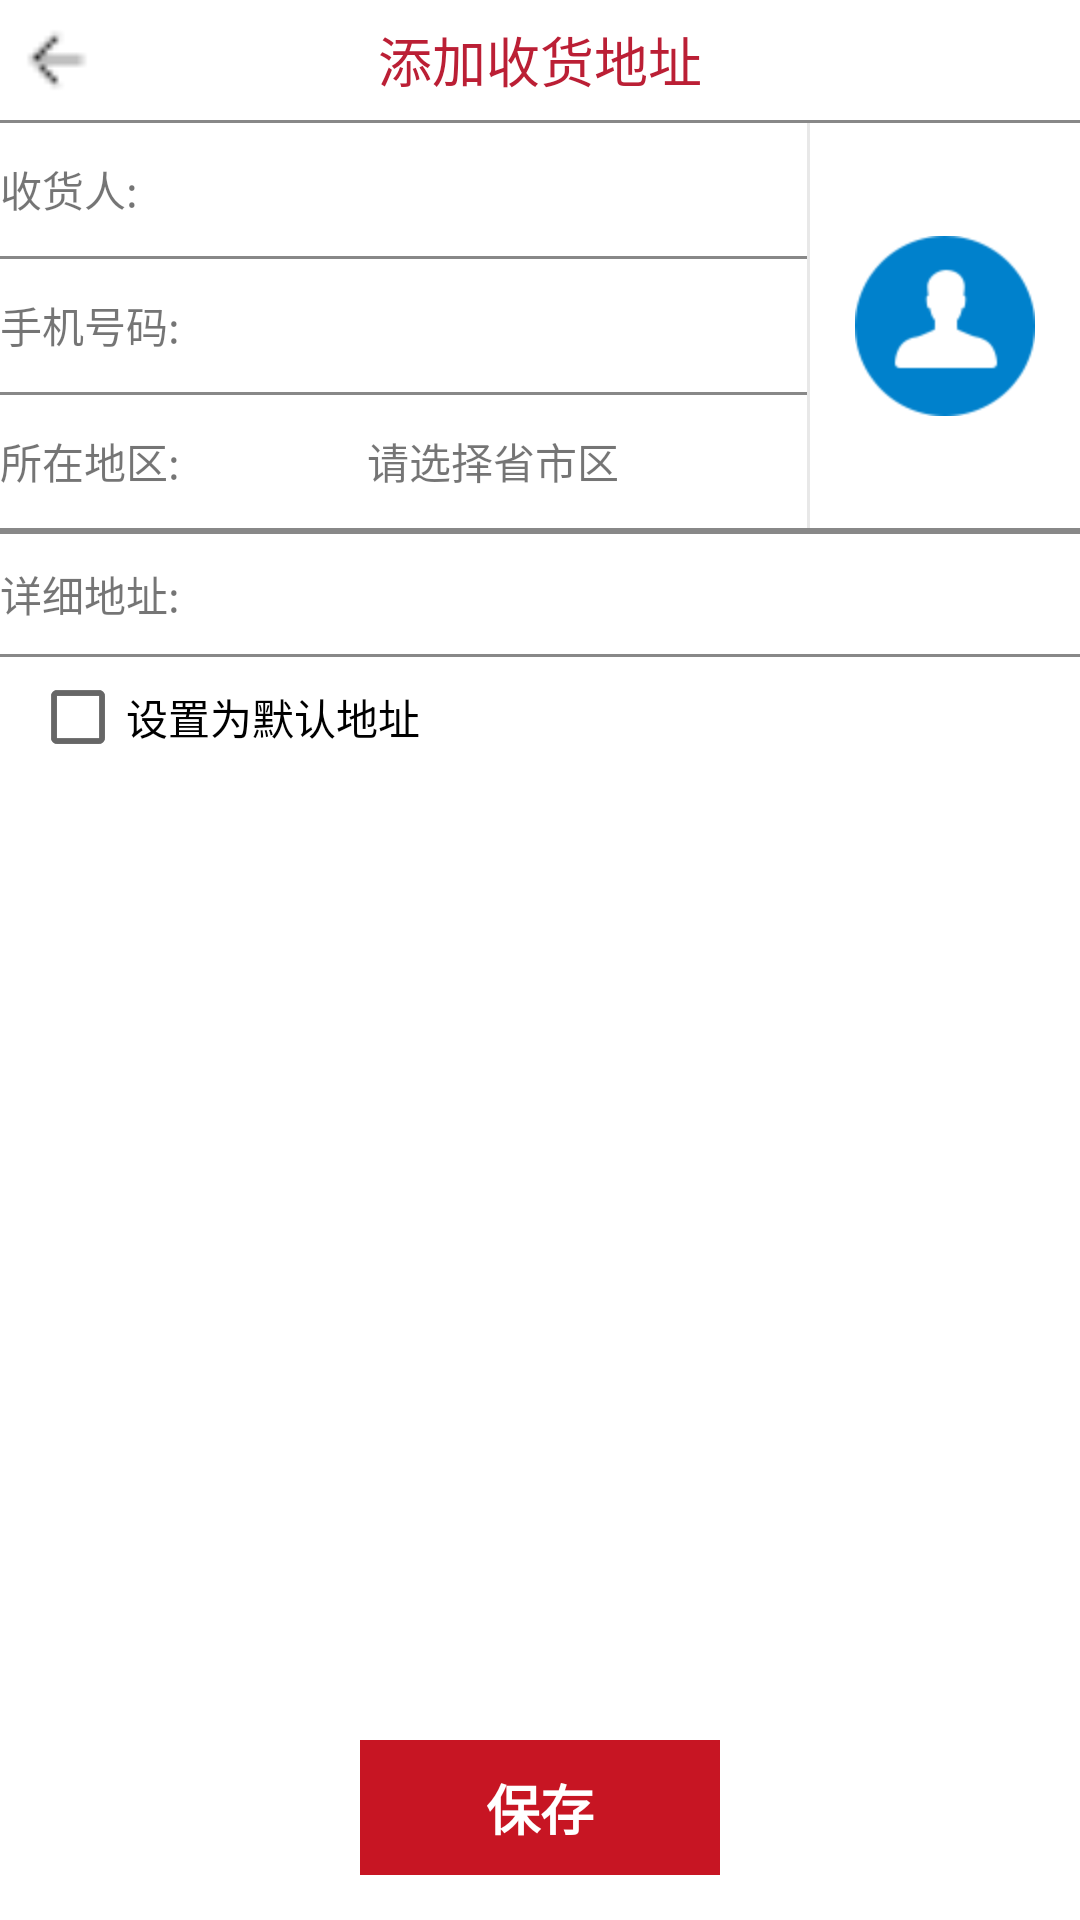

Icon click points for this 1080px×1920px phone screenshot, format (x,y):
back: (56,60)
user mgr: (945,326)
